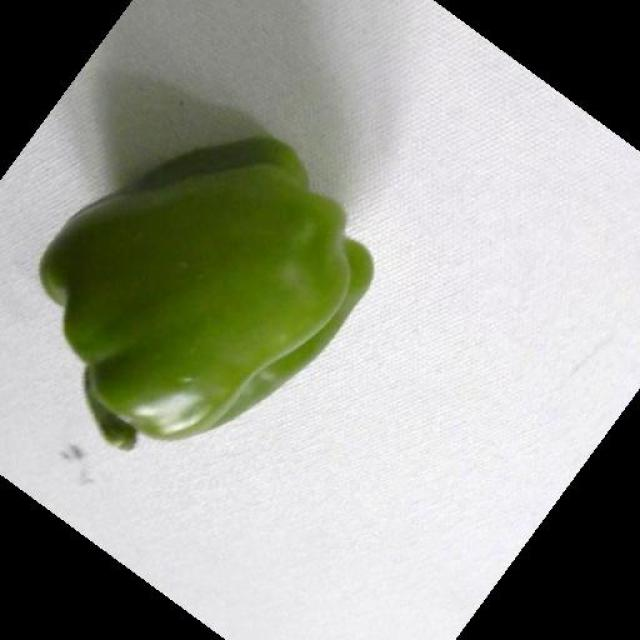Fresh_Capsicum: (17, 156, 397, 448)
